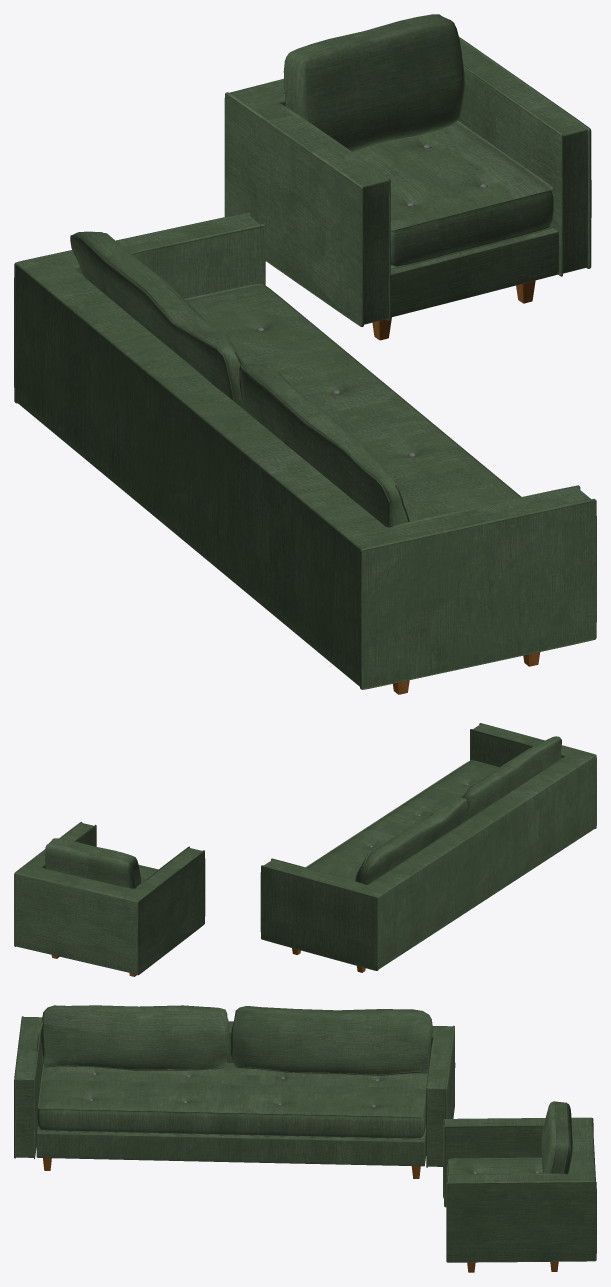
File: sala.obj
3 views of the same model, one above another, from view 1: azimuth 30°, elevation 25°; view 2: azimuth 150°, elevation 25°; view 3: azimuth 270°, elevation 25° (orthographic). The views are drawn at different scales.
Visible parts, largest first — view 1: pCube3; view 2: pCube3; view 3: pCube3.
Boxes of the visible parts, box(x1,y1,x2,y2) form: pCube3: box(14, 14, 596, 694); pCube3: box(14, 723, 596, 976); pCube3: box(14, 1005, 596, 1272).
Size of the model in its own units: 4.29 by 1.56 by 6.31.
Materials: 3 (2 with a texture image).
